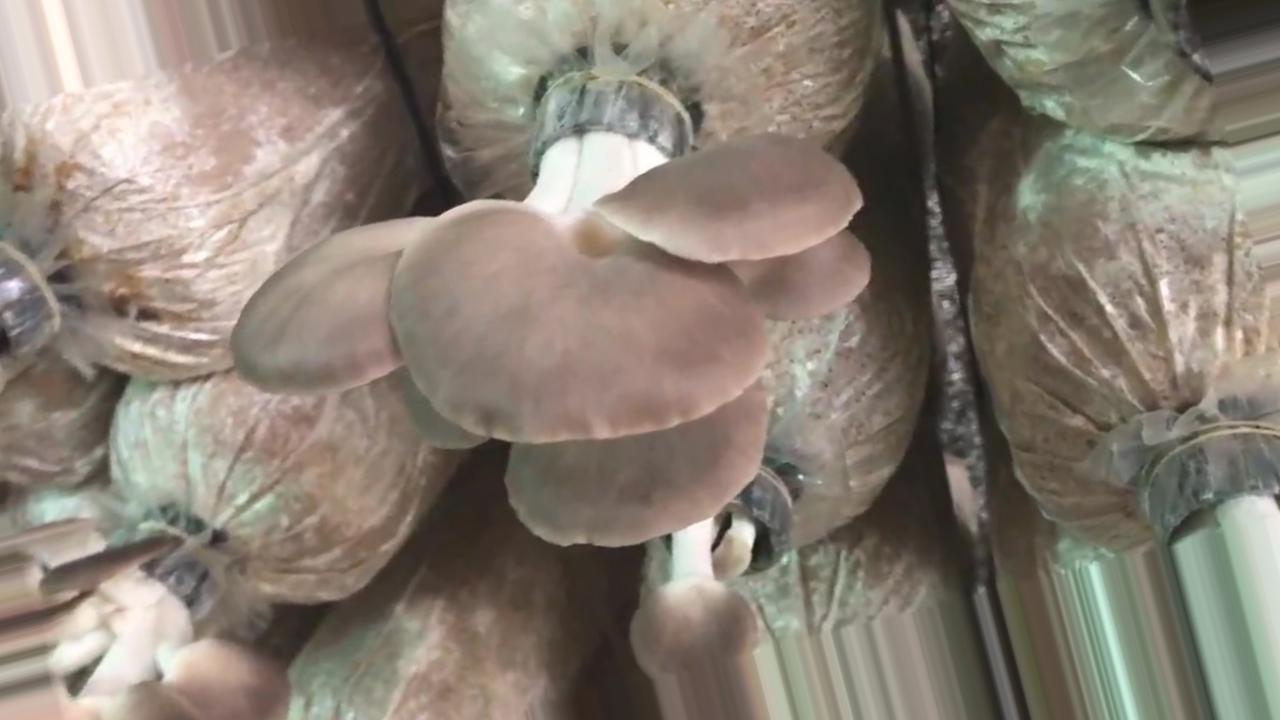nam: (230, 73, 870, 547), (1, 522, 289, 720), (632, 456, 804, 720), (1152, 441, 1280, 720)
